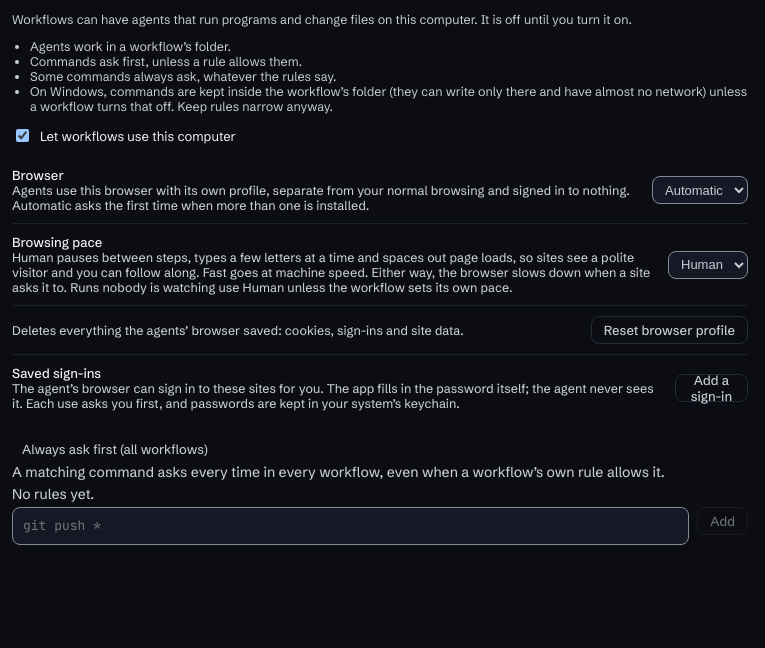
Test: ComputerSection › shows an unparseable rule inline and will not add it
Type "a * b" into the field named "New rule for" at (351, 526), box [12, 507, 689, 544]
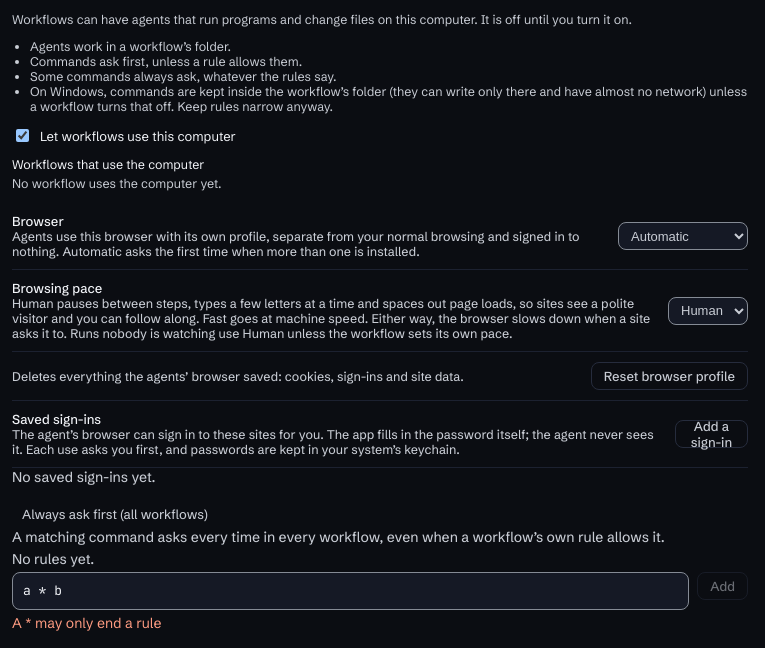
Expected: the button with aria-label "Add a rule to" is disabled, [697, 572, 748, 600]
Now the message reads "A * may only end a rule", box [12, 614, 161, 632]
